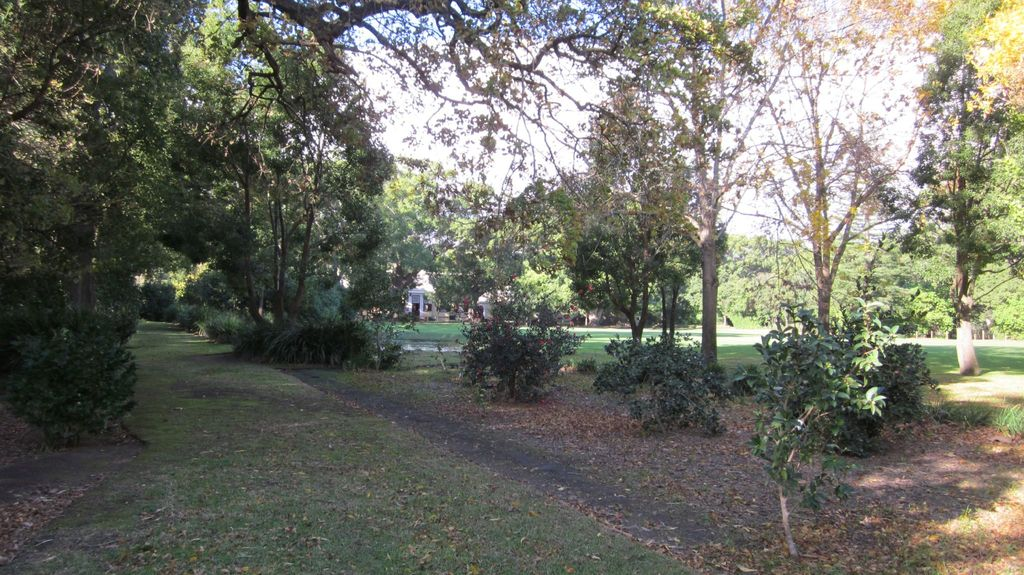Tree: (0, 0, 1023, 461), (896, 24, 1013, 384)
